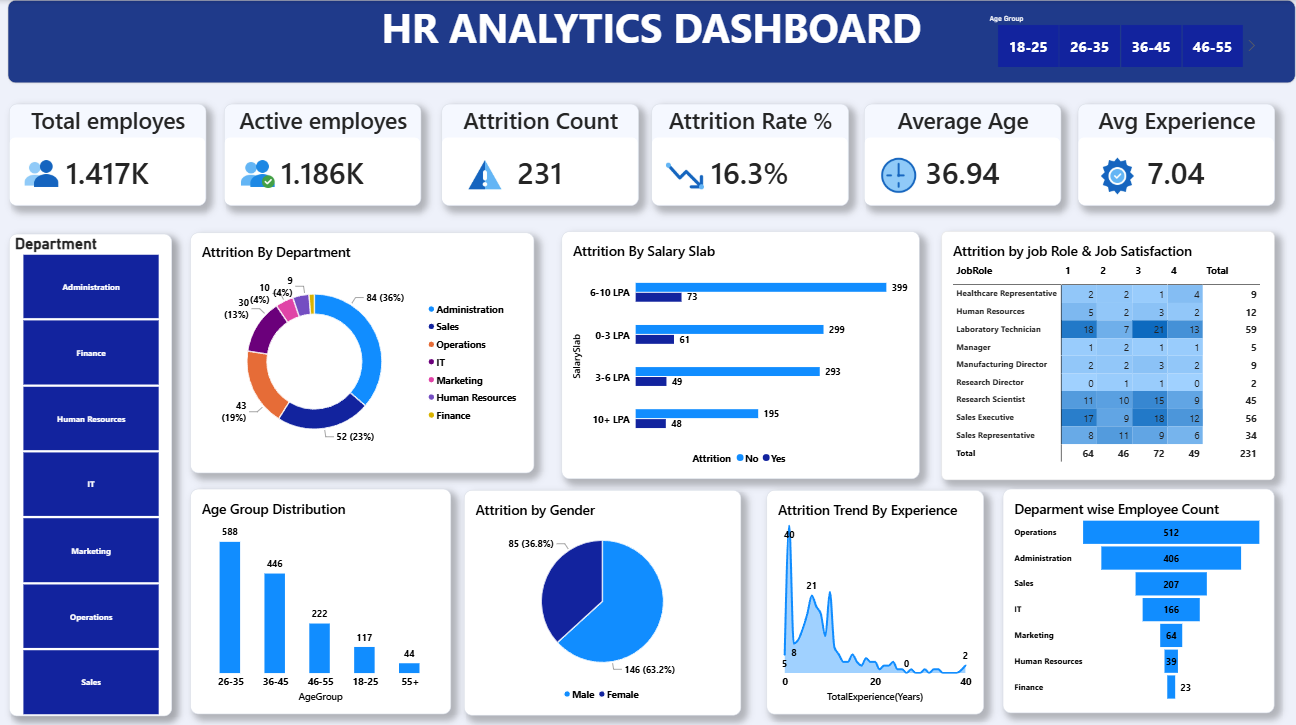

The dashboard page shown, as its layout file describes it:
{"tool":"powerbi","page":{"name":"Page 1","canvas":[1920,1080],"ordinal":0},"visuals":[{"type":"textbox","box":[12,0,1896,122],"z":0},{"type":"cardVisual","title":"Average Age","fields":{"Data":["Avg(HR_Analytics-4.Age)"]},"box":[1274,152,290,150],"z":1000},{"type":"cardVisual","title":"Total employes","fields":{"Data":["CountNonNull(HR_Analytics-4.EmpID)"]},"box":[14,152,290,150],"z":2000},{"type":"cardVisual","title":"Active employes","fields":{"Data":["CountNonNull(HR_Analytics-4.EmployeeCount)"]},"box":[332,152,290,150],"z":3000},{"type":"cardVisual","title":"Attrition Count","fields":{"Data":["Sum(HR_Analytics-4.AttritionCount)"]},"box":[652,152,290,150],"z":4000},{"type":"cardVisual","title":"Avg Experience","fields":{"Data":["Avg(HR_Analytics-4.YearsatCompany)"]},"box":[1588,152,290,150],"z":5000},{"type":"cardVisual","title":"Attrition Rate %","fields":{"Data":["HR_Analytics-4.Attrition Rate %"]},"box":[960,152,290,150],"z":6000},{"type":"donutChart","title":"Attrition By Department","fields":{"Category":["HR_Analytics-4.Department"],"Y":["Sum(HR_Analytics-4.AttritionCount)"]},"box":[282,342,506,354],"z":7000},{"type":"clusteredBarChart","title":"Attrition By Salary Slab","fields":{"Category":["HR_Analytics-4.SalarySlab"],"Series":["HR_Analytics-4.Attrition"],"Y":["CountNonNull(HR_Analytics-4.EmpID)"]},"box":[827.5,340,527.5,365],"z":8000},{"type":"pivotTable","title":"Attrition by job Role & Job Satisfaction","fields":{"Columns":["HR_Analytics-4.JobSatisfaction"],"Rows":["HR_Analytics-4.JobRole"],"Values":["Sum(HR_Analytics-4.AttritionCount)"]},"box":[1388,340,490,366],"z":9000},{"type":"columnChart","title":"Age Group Distribution","fields":{"Category":["HR_Analytics-4.AgeGroup"],"Y":["Sum(HR_Analytics-4.EmployeeCount)"]},"box":[282,720,384,332],"z":10000},{"type":"pieChart","title":"Attrition by Gender","fields":{"Category":["HR_Analytics-4.Gender"],"Y":["Sum(HR_Analytics-4.AttritionCount)"]},"box":[684,722,408,332],"z":11000},{"type":"areaChart","title":"Attrition Trend By Experience","fields":{"Category":["HR_Analytics-4.TotalExperience(Years)"],"Y2":["Sum(HR_Analytics-4.AttritionCount)"]},"box":[1130,722,320,330],"z":12000},{"type":"funnel","title":"Deparment wise Employee Count","fields":{"Category":["HR_Analytics-4.Department"],"Y":["CountNonNull(HR_Analytics-4.EmpID)"]},"box":[1478,720,400,330],"z":13000},{"type":"slicer","fields":{"Values":["HR_Analytics-4.Department"]},"box":[14,344,240,710],"z":14000},{"type":"slicer","fields":{"Values":["HR_Analytics-4.AgeGroup"]},"box":[1450,20,400,80],"z":15000},{"type":"image","box":[32,228,62,60],"z":15001},{"type":"image","box":[980,228,62,60],"z":15003},{"type":"image","box":[684,228,62,60],"z":15005},{"type":"image","box":[350,228,62,60],"z":15006},{"type":"image","box":[1294,228,62,60],"z":15008},{"type":"image","box":[1616,228,62,60],"z":15009}]}

Visuals, with their boxes in screenshot pixels (x1, y1, x2, y2), scaled from the page's 1920x1080 canvas onto the 1296x725 screenshot:
textbox: 8 0 1288 82
"Average Age" cardVisual: 860 102 1056 203
"Total employes" cardVisual: 9 102 205 203
"Active employes" cardVisual: 224 102 420 203
"Attrition Count" cardVisual: 440 102 636 203
"Avg Experience" cardVisual: 1072 102 1268 203
"Attrition Rate %" cardVisual: 648 102 844 203
"Attrition By Department" donutChart: 190 230 532 467
"Attrition By Salary Slab" clusteredBarChart: 559 228 915 473
"Attrition by job Role & Job Satisfaction" pivotTable: 937 228 1268 474
"Age Group Distribution" columnChart: 190 483 450 706
"Attrition by Gender" pieChart: 462 485 737 708
"Attrition Trend By Experience" areaChart: 763 485 979 706
"Deparment wise Employee Count" funnel: 998 483 1268 705
slicer - HR_Analytics-4.Department: 9 231 171 708
slicer - HR_Analytics-4.AgeGroup: 979 13 1249 67
image: 22 153 63 193
image: 662 153 703 193
image: 462 153 504 193
image: 236 153 278 193
image: 873 153 915 193
image: 1091 153 1133 193
